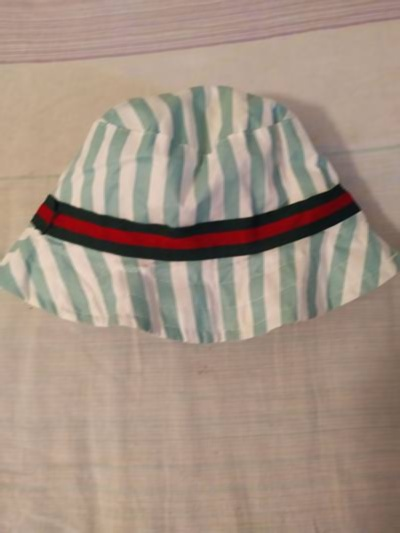Hat: (16, 91, 395, 352)
